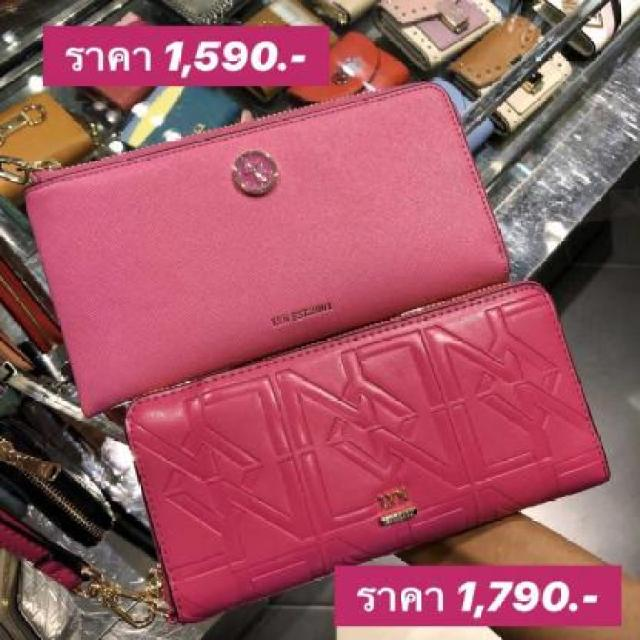Bag: (50, 250, 625, 635), (0, 64, 562, 430)
